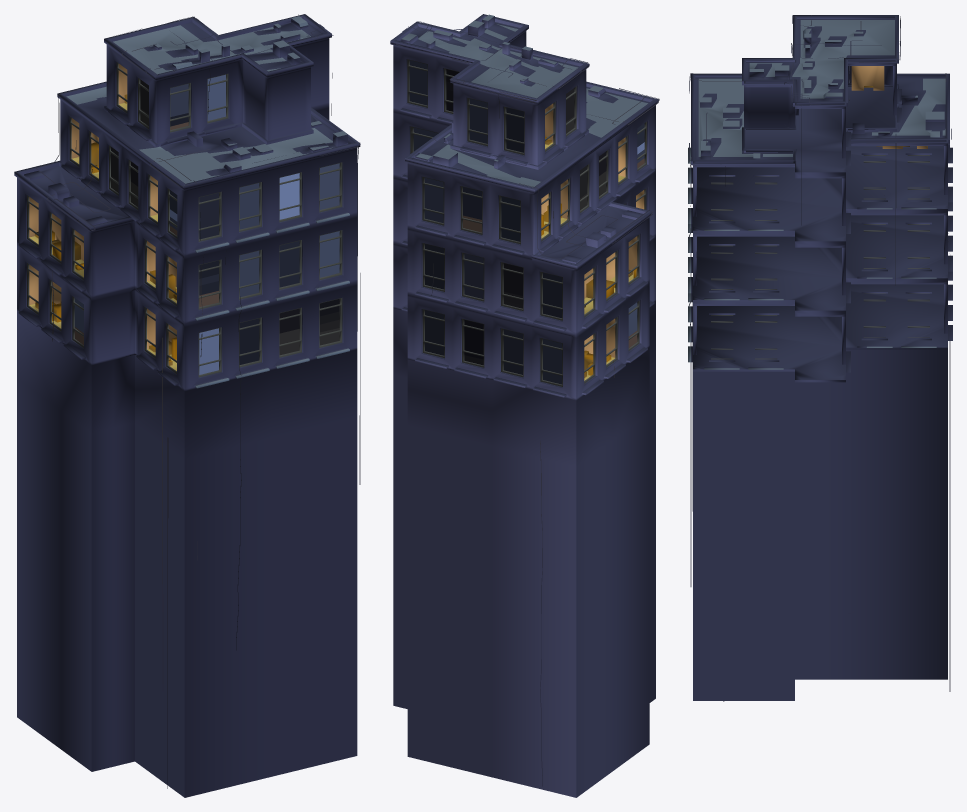
File: mesh_bdg_A_10.fbx
3 renders of one model, left to right at view 1: azimuth 30°, elevation 25°; view 2: azimuth 150°, elevation 25°; view 3: azimuth 270°, elevation 25°, orthographic. The views are drawn at different scales.
Visible parts, largest first — view 1: material9; view 2: material9; view 3: material9.
Part boxes in pixels (x1,y1,x2,y2): material9: (14,14,360,797); material9: (390,14,659,797); material9: (688,15,952,701).
Bounding box in the file's own units: 11.35 × 30.51 × 10.39.
